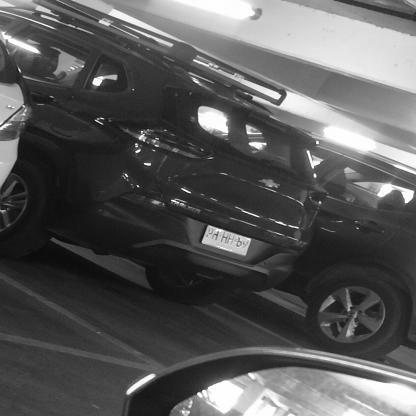Patente: (200, 224, 252, 257)
